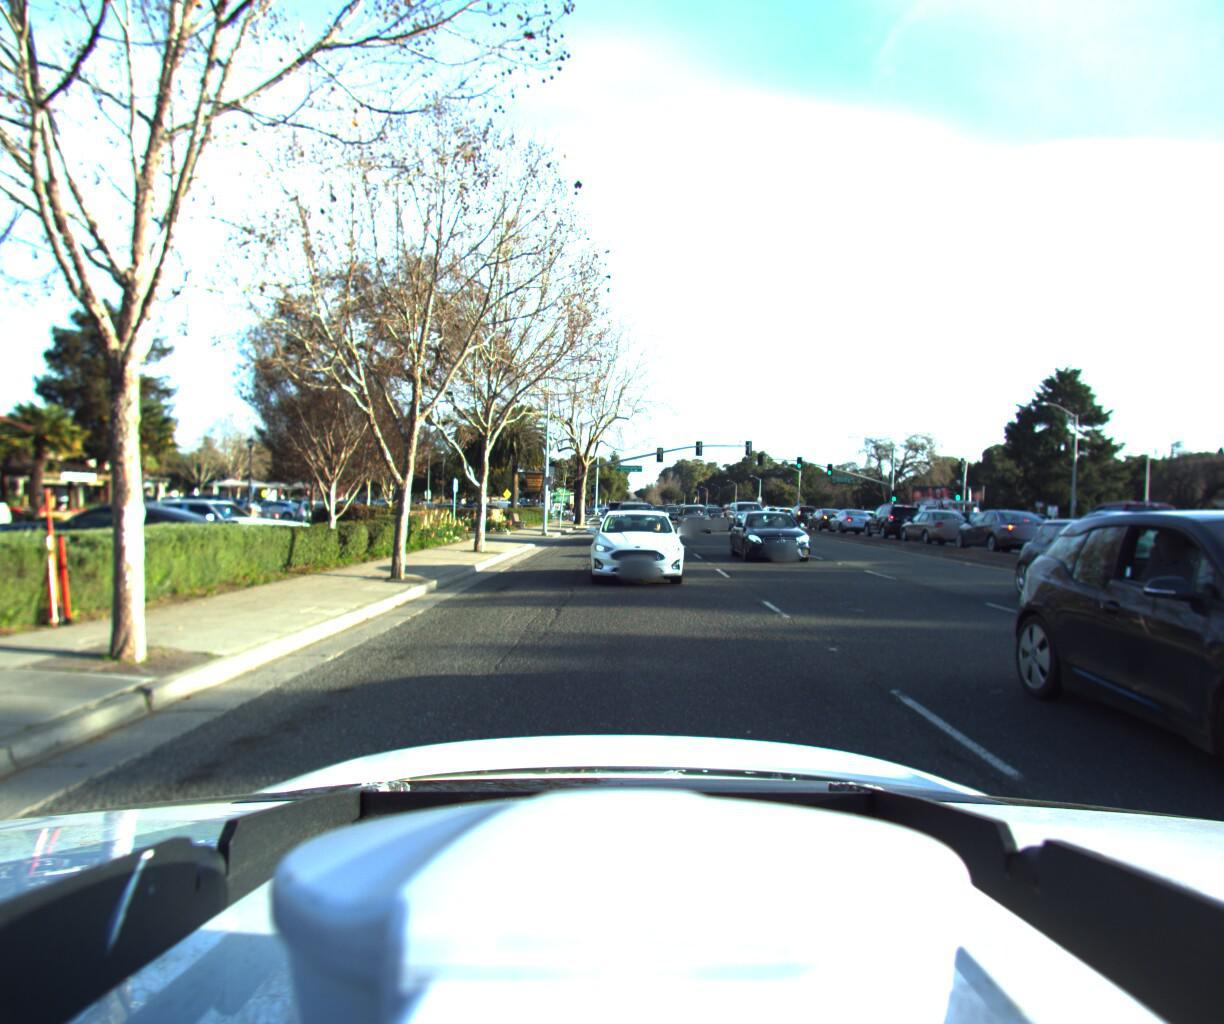car: (1069, 489, 1224, 1024), (0, 496, 250, 587), (1042, 513, 1224, 636), (93, 498, 318, 568), (1041, 507, 1209, 574), (1063, 496, 1221, 565), (582, 504, 683, 592), (948, 505, 1062, 558), (729, 507, 821, 568), (896, 505, 981, 548), (902, 495, 977, 540), (859, 502, 925, 541), (608, 500, 655, 544), (824, 506, 877, 536), (725, 495, 769, 529), (592, 502, 634, 535), (1211, 513, 1224, 612), (675, 501, 714, 533), (803, 505, 849, 532), (780, 504, 817, 530), (764, 504, 798, 527), (701, 501, 731, 525), (662, 502, 685, 522), (0, 464, 1, 607)
